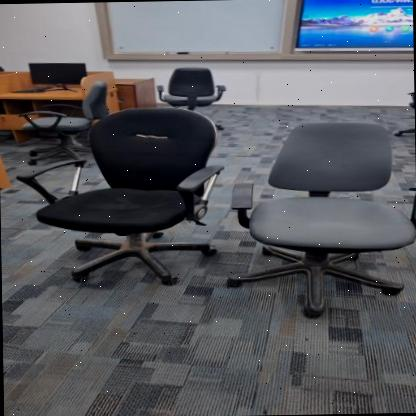chair: (10, 98, 227, 296), (216, 113, 416, 322), (152, 58, 230, 116)
